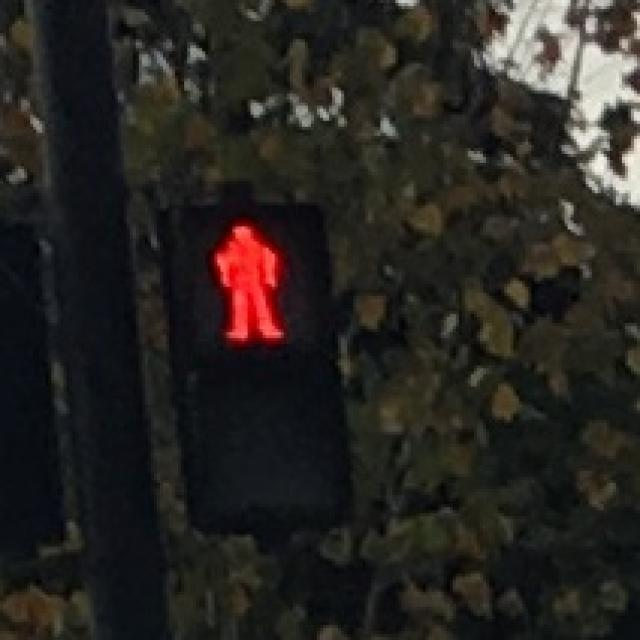red-crossing: (175, 208, 317, 350)
